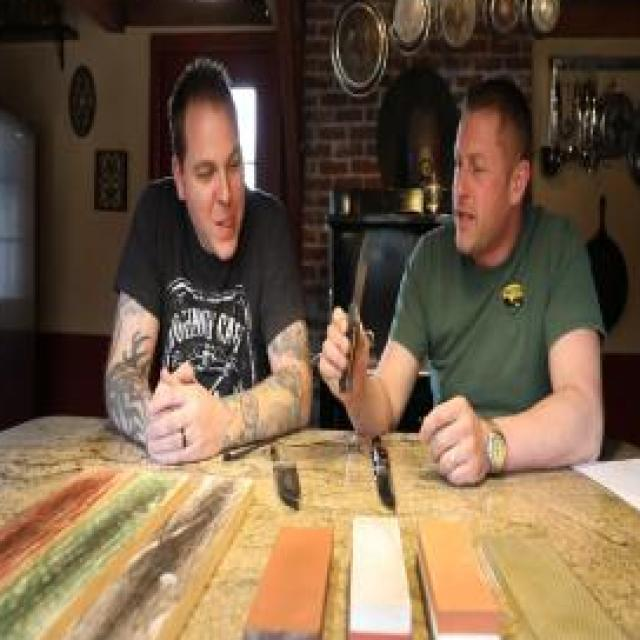knife: (322, 209, 376, 387)
